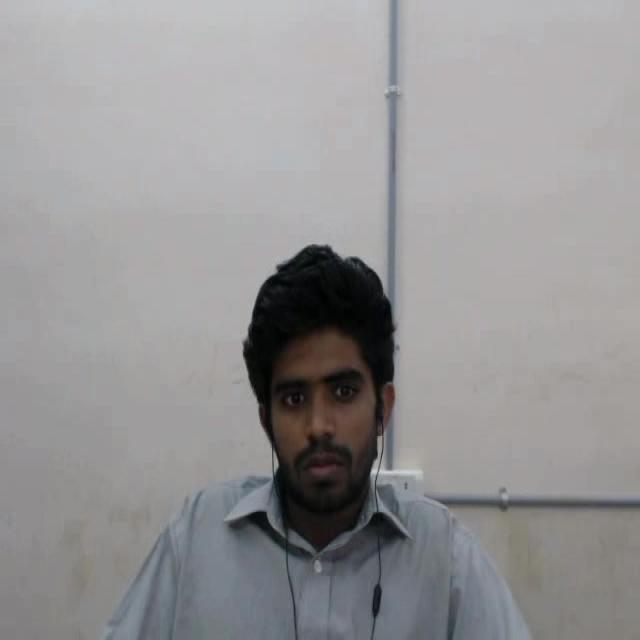Engaged: (209, 189, 408, 570)
